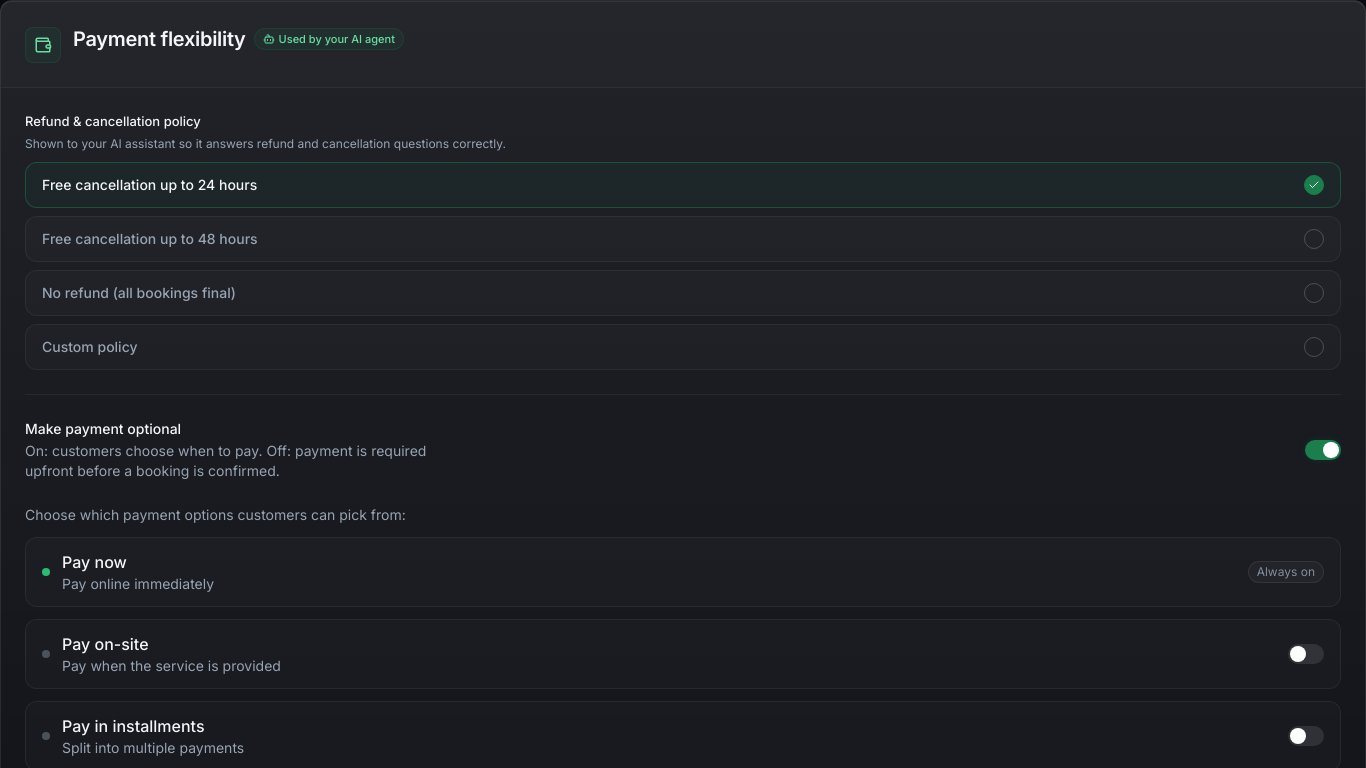
Test case: AS-3 refund-policy presets › clicking custom reveals the free-text editor and stays revealed while empty
Click the radio button labelled "Custom policy".
click(90, 346)  # box [25,324,1341,370]
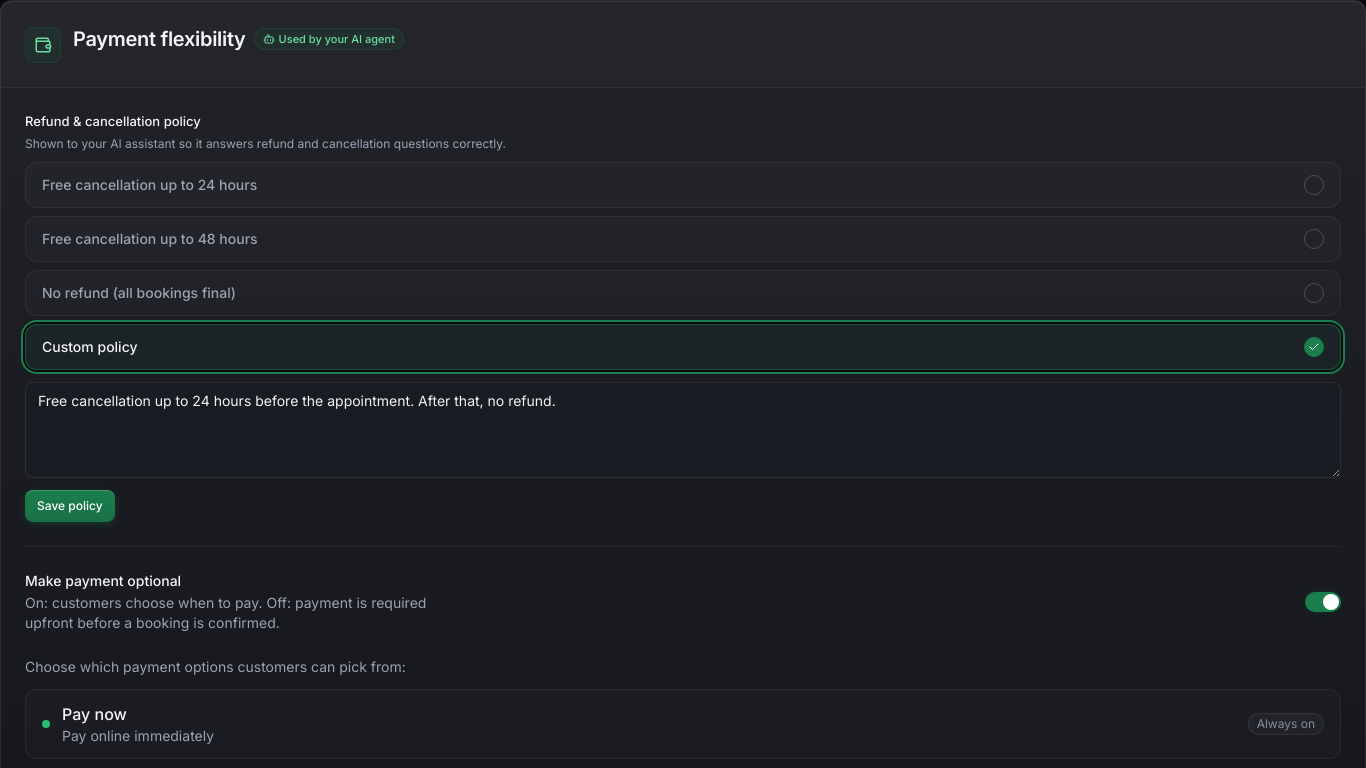
expect the text box named "Refund & cancellation policy" is shown: met, box [25,382,1341,478]
